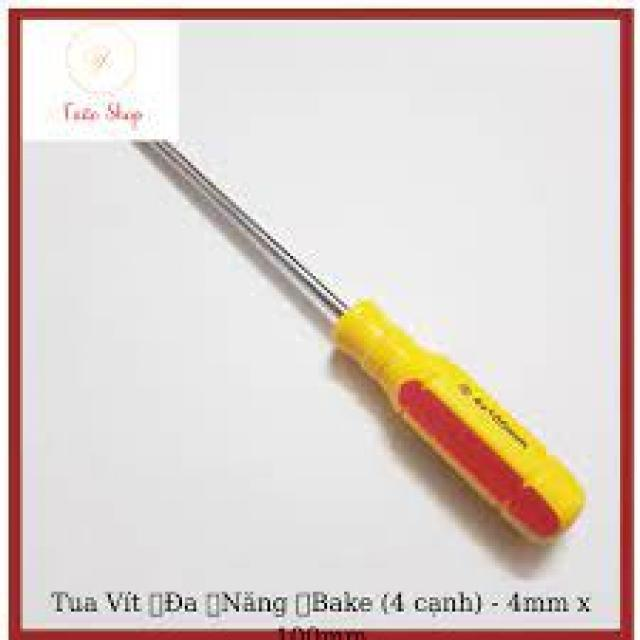screwdriver: (139, 134, 589, 544)
